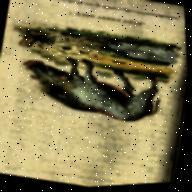boar: (13, 43, 167, 135)
